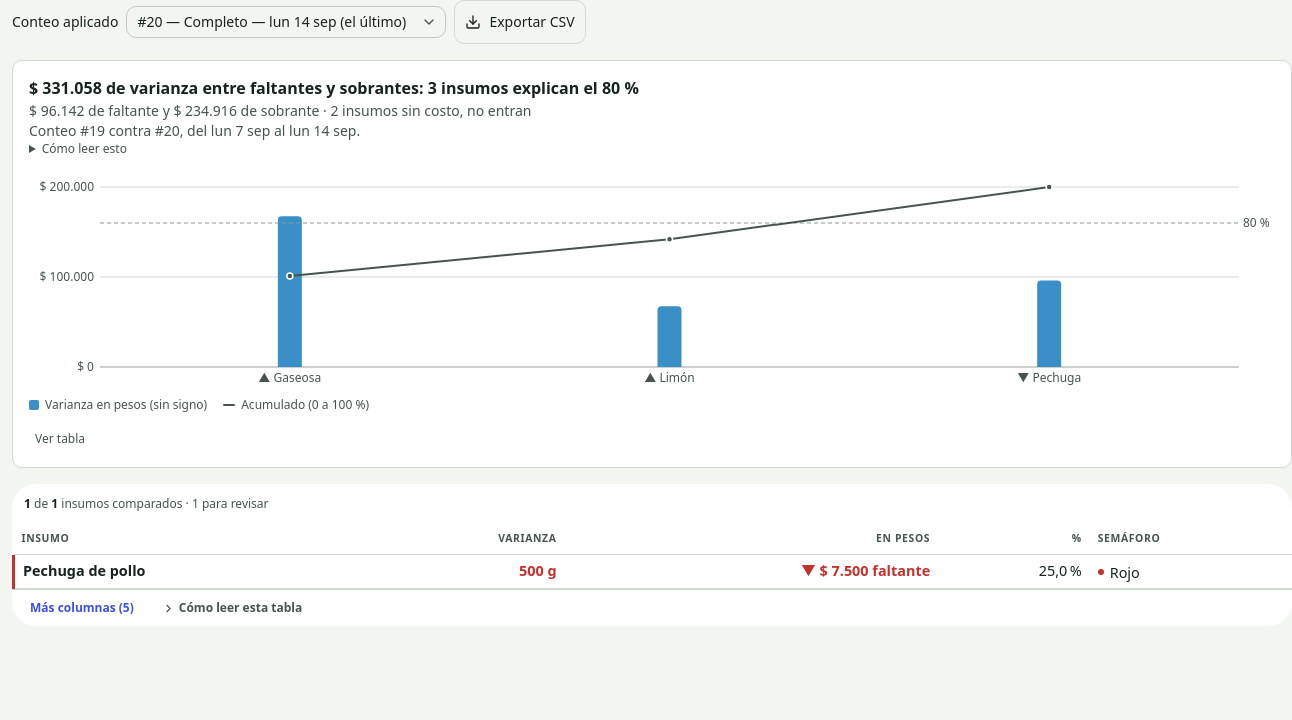
VarianceTab — el semáforo lo calcula el servidor, nunca un umbral del cliente (SPEC-NEGOCIO §5.4) › Pareto: titular con el total y cuántos insumos explican el 80 %, faltante ▼ y sobrante ▲, y los sin costo dichos
Check: the heading "$ 331.058 de varianza entre faltantes y sobrantes: 3 insumos explican el 80 %" is shown, box 29,77 -> 639,99
Check: the text "$ 96.142 de faltante y $ 234.916 de sobrante · 2 insumos sin costo, no entran" is shown, box 29,101 -> 531,120
Click the button "Ver tabla".
click(60, 439)  # box 29,427 -> 91,451
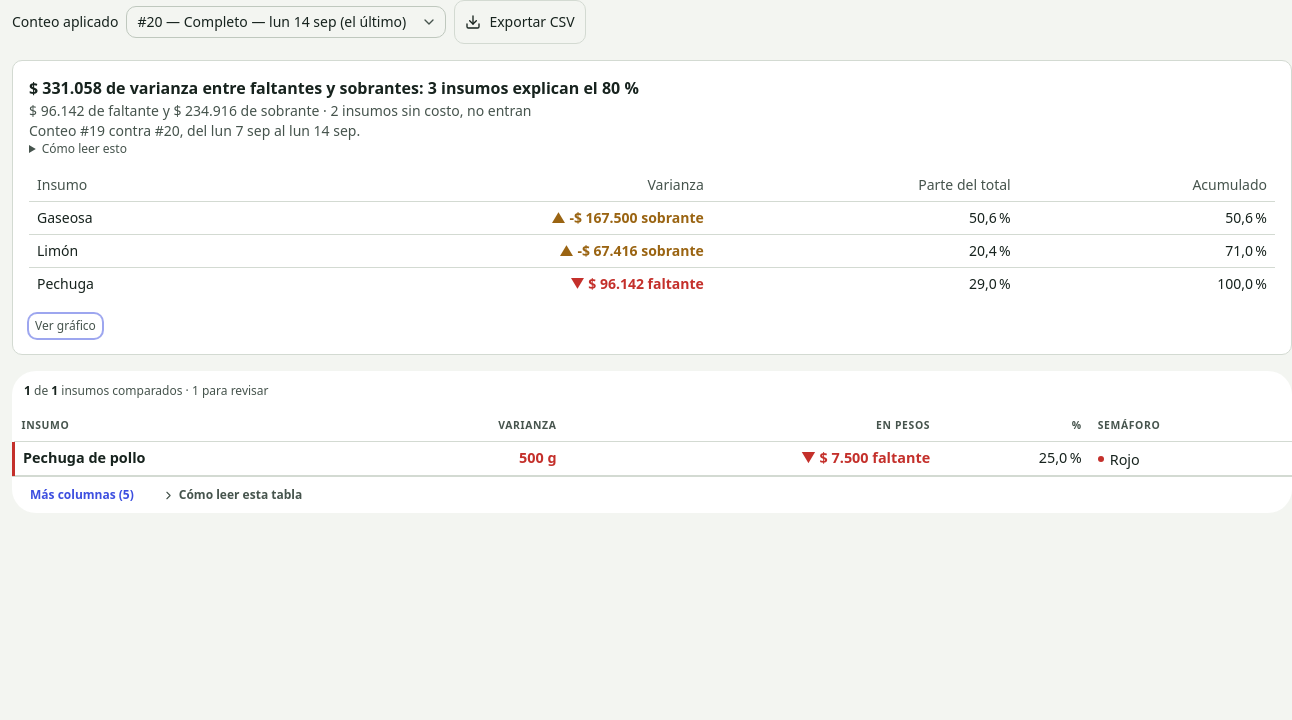
Check: the text "▲ -$ 167.500 sobrante" is shown 2 times, box 551,208 -> 704,227; 559,241 -> 704,260
Check: the text "▲ -$ 167.500 sobrante" is shown, box 551,208 -> 704,227
Check: the text "▲ -$ 67.416 sobrante" is shown, box 559,241 -> 704,260
